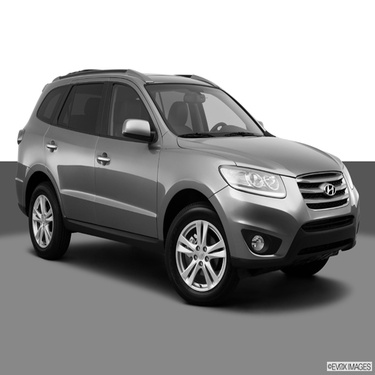car: (8, 52, 365, 311)
